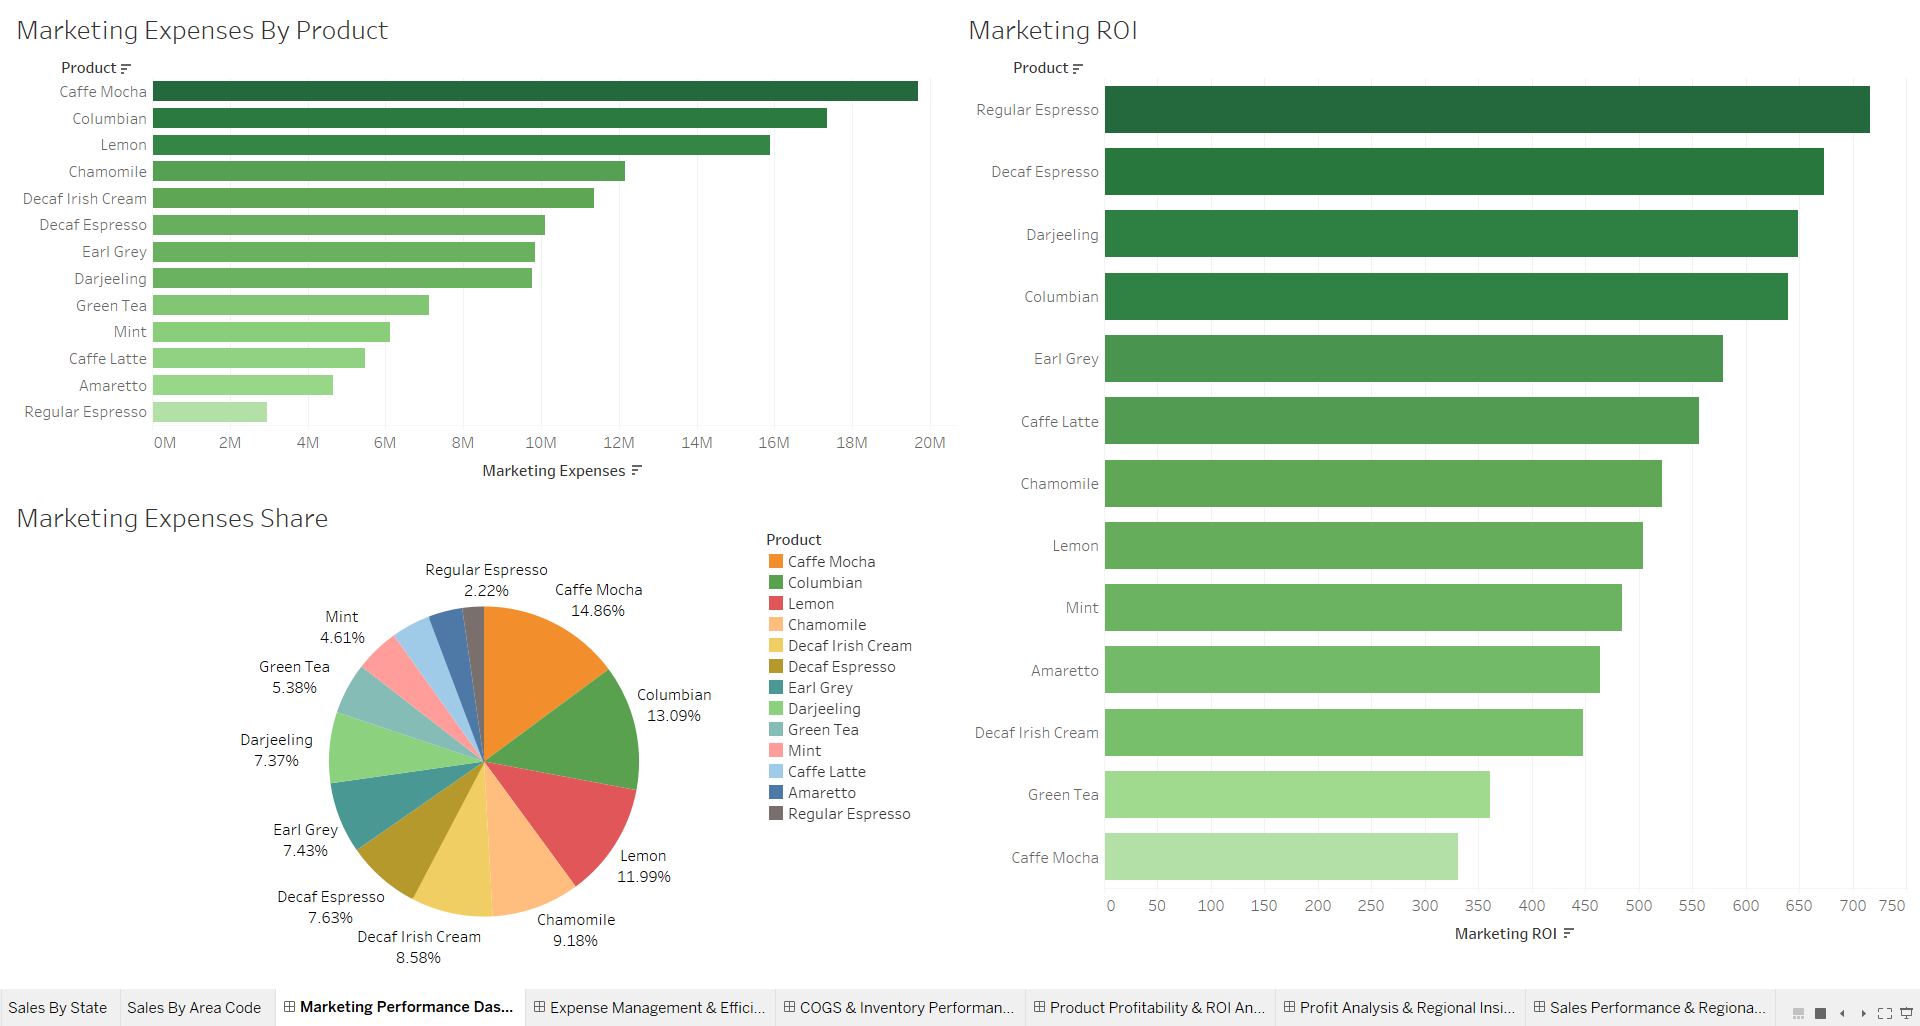

Layout of this report page (visuals, bound fields, positions):
{"tool":"tableau","page":{"name":"Marketing Performance Dashboard","canvas":[1000,1000],"units":"permille","ordinal":2},"visuals":[{"type":"worksheet","title":"Marketing Expenses By Product","mark":"Automatic","rows":["Product"],"cols":["Marketing"],"box":[4.2,8.1,495.8,491.9]},{"type":"worksheet","title":"Marketing ROI","mark":"Automatic","rows":["Product"],"cols":["Calculation_938156136773185536"],"box":[500,8.1,495.9,983.9]},{"type":"worksheet","title":"Marketing Expenses Share","mark":"Pie","box":[4.2,500,495.8,491.9]},{"type":"legend","title":"Marketing Expenses Share","param":"[federated.03toz571cx6otw1eec3mr0x40p7i].[none:Product:nk]","box":[399.2,536.8,92.1,368.3]}]}

Visuals, with their boxes on the dashboard's canvas, which has no fixed pixel size, in thousandths of its width and height (x1, y1, x2, y2). These are canvas units, not pixel positions in the 1920x1026 screenshot, which may show the page scaled, cropped or inside an application window:
"Marketing Expenses By Product" worksheet: box(4, 8, 500, 500)
"Marketing ROI" worksheet: box(500, 8, 996, 992)
"Marketing Expenses Share" worksheet (Pie marks): box(4, 500, 500, 992)
"Marketing Expenses Share" legend: box(399, 537, 491, 905)
